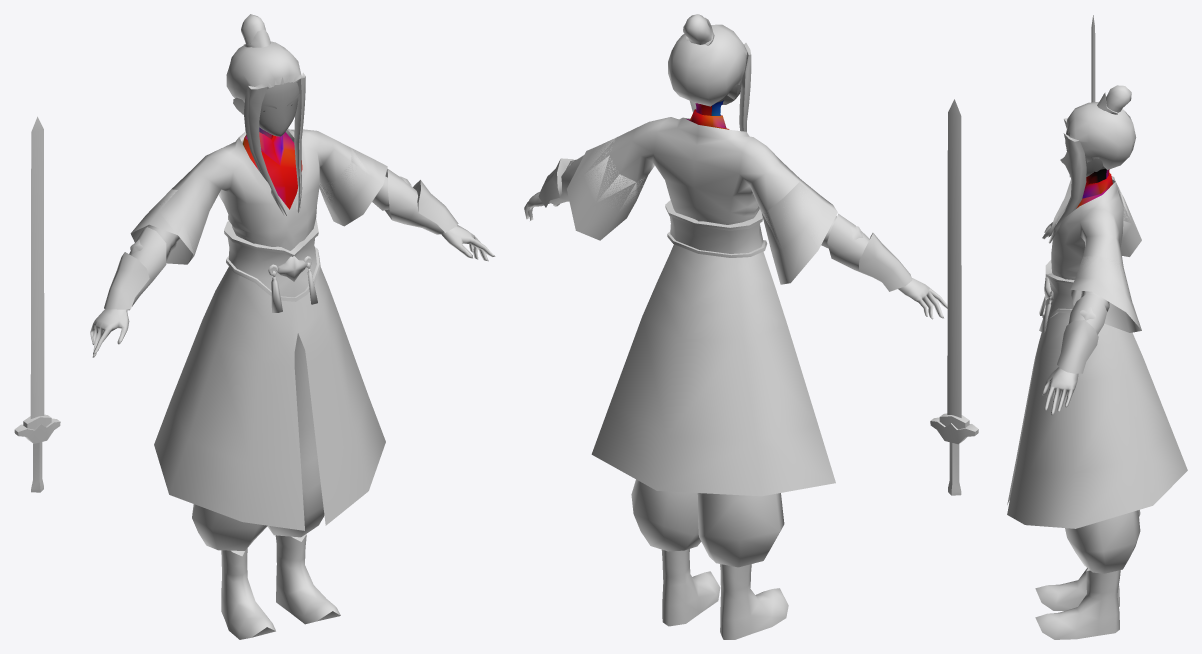
The model's file is m_013_sword_soldier_1_view.fbx.
The picture shows the model from 3 angles, left to right: view 1: azimuth 30°, elevation 25°; view 2: azimuth 150°, elevation 25°; view 3: azimuth 270°, elevation 25°; orthographic projection. The views are drawn at different scales.
Parts seen in each view (by area): view 1: m_013_sword_soldier_1; view 2: m_013_sword_soldier_1; view 3: m_013_sword_soldier_1.
Boxes of the visible parts, box(x1,y1,x2,y2) form: m_013_sword_soldier_1: box(14, 14, 495, 639); m_013_sword_soldier_1: box(524, 14, 978, 639); m_013_sword_soldier_1: box(1007, 15, 1187, 639).
Bounding box in the file's own units: 185 × 229 × 70.42.
